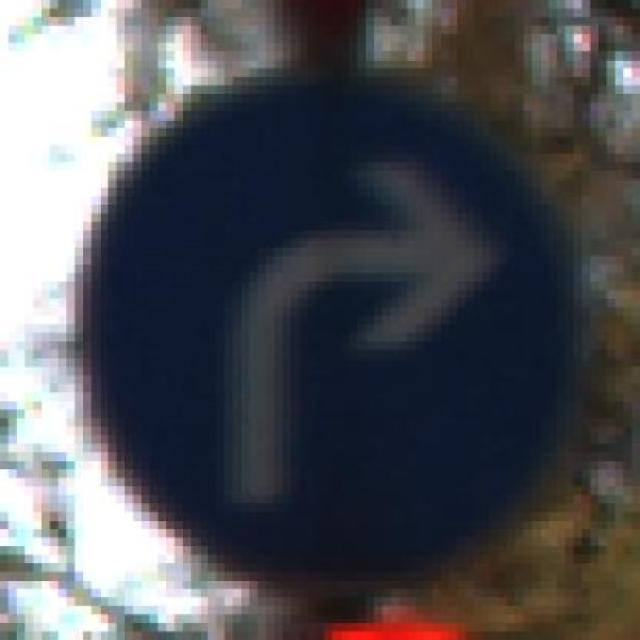Turn right ahead: (58, 60, 607, 589)
